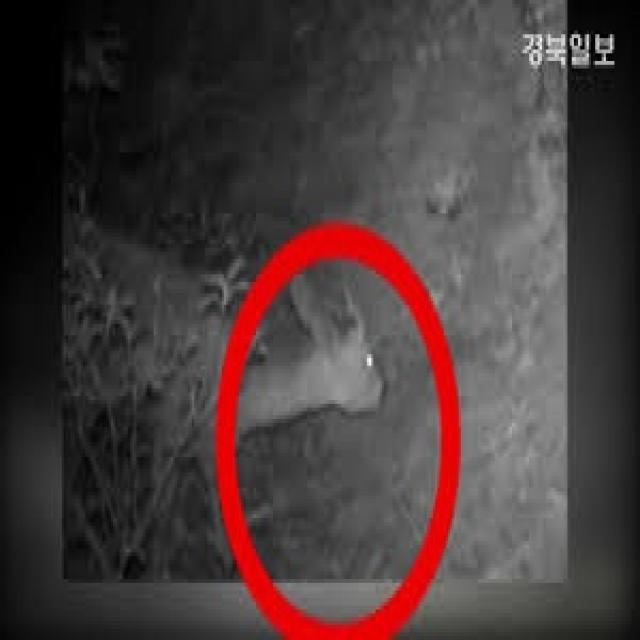elk: (62, 207, 389, 533)
